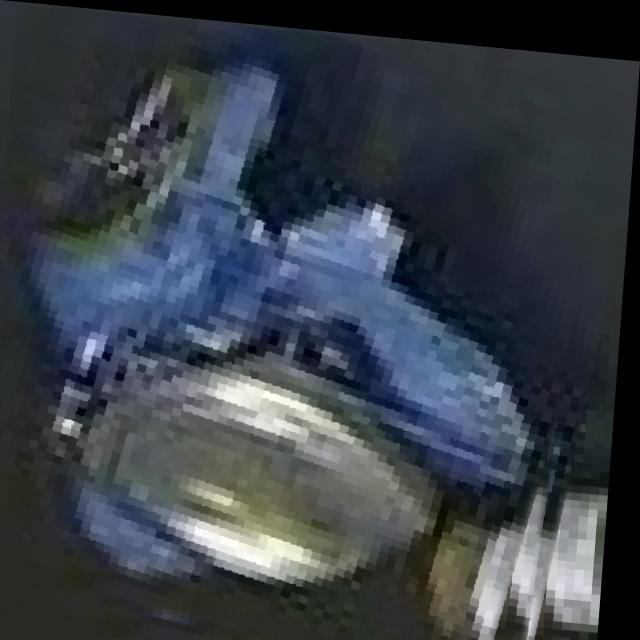can: (0, 13, 568, 626)
